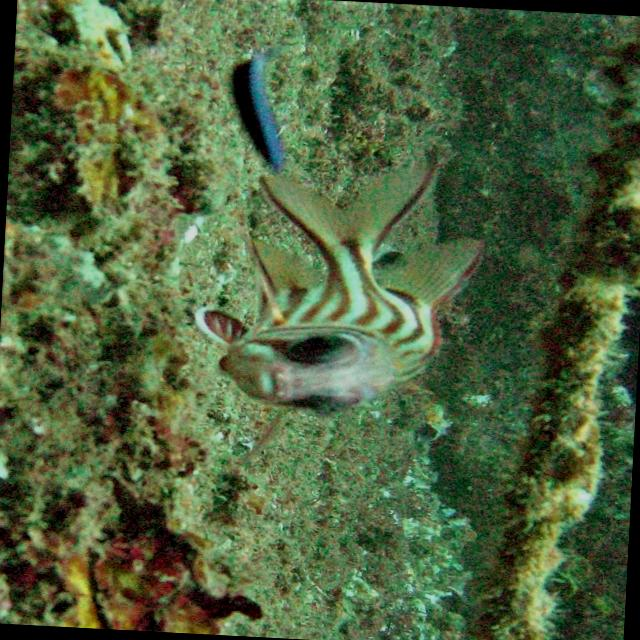Asker Baligi: (176, 132, 502, 436)
